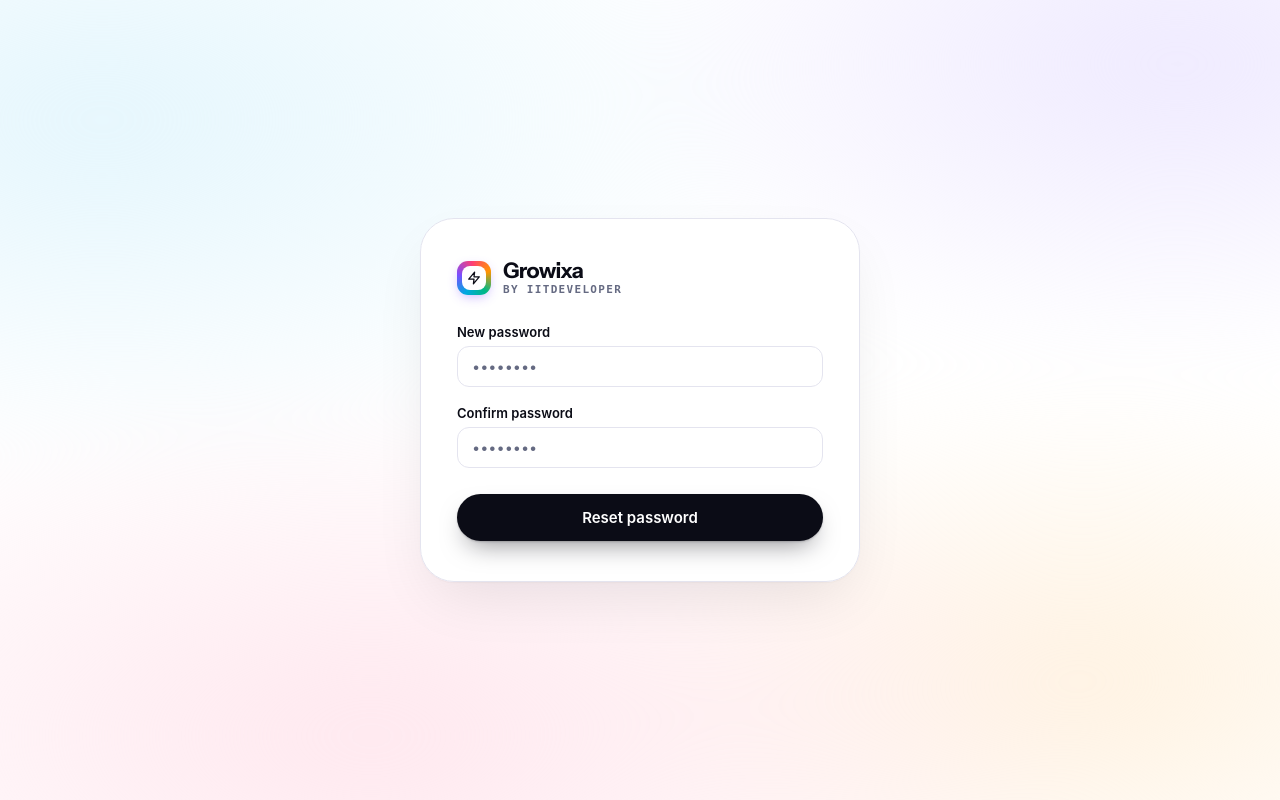
Test: ResetPasswordPage › shows link expired when the API rejects the token
Type "New-Password-456!" into the password field labelled "New password" at (640, 366), box [457,346,823,387]
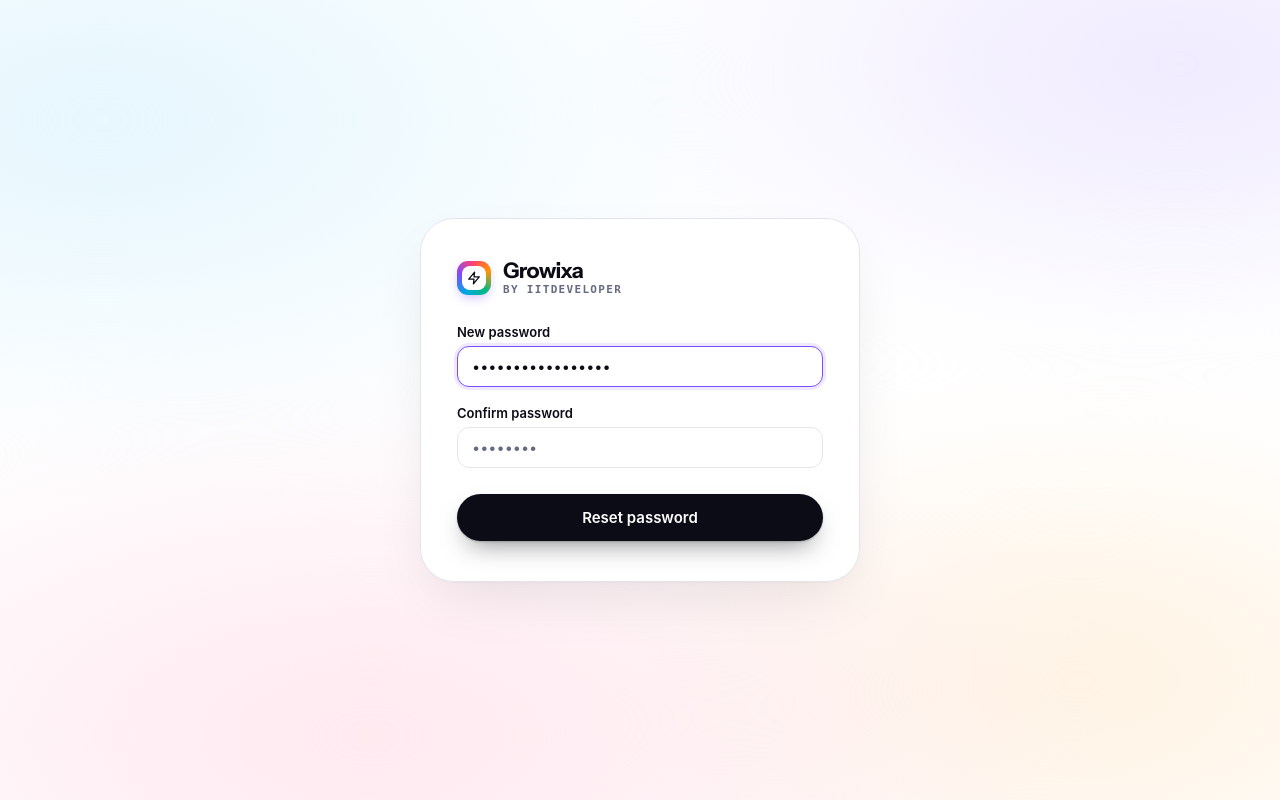
Type "New-Password-456!" into the password field labelled "Confirm password" at (640, 447), box [457,427,823,468]
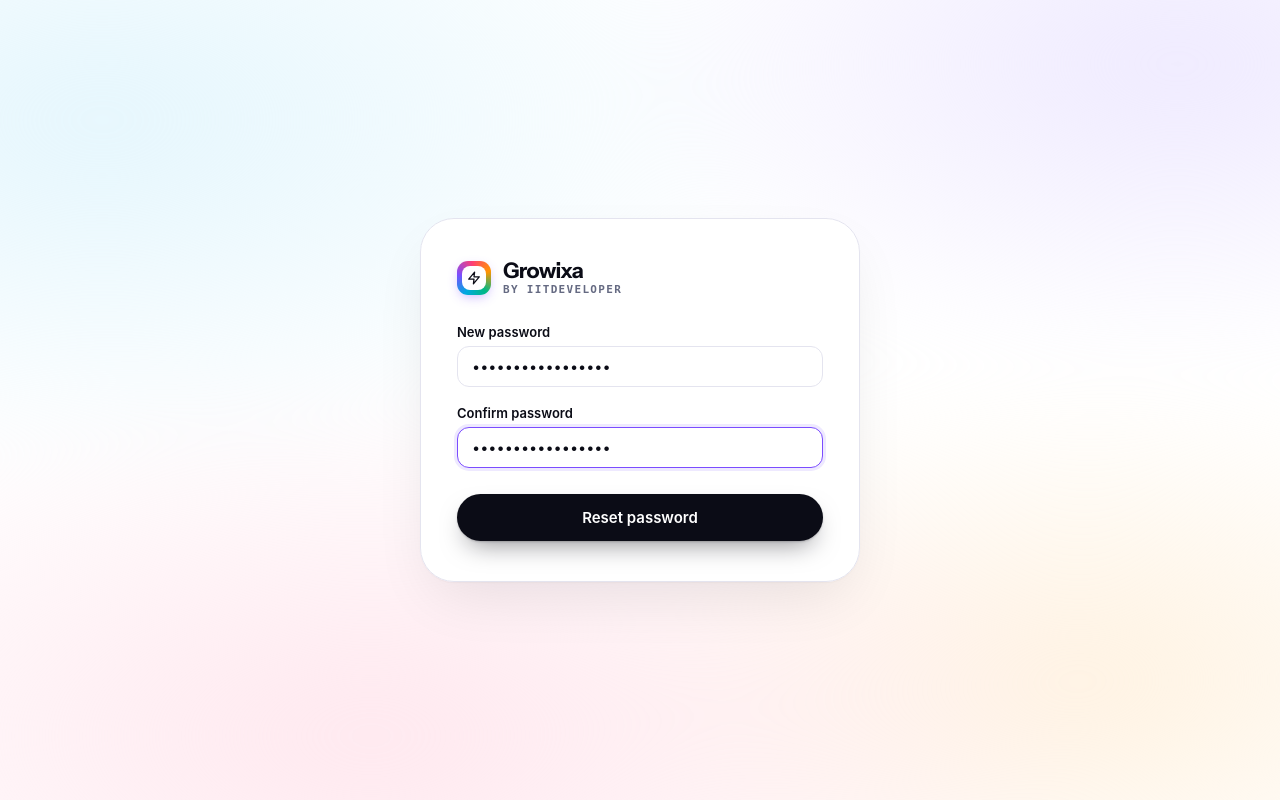
Click the button "Reset password" at (640, 517), box [457,494,823,541]
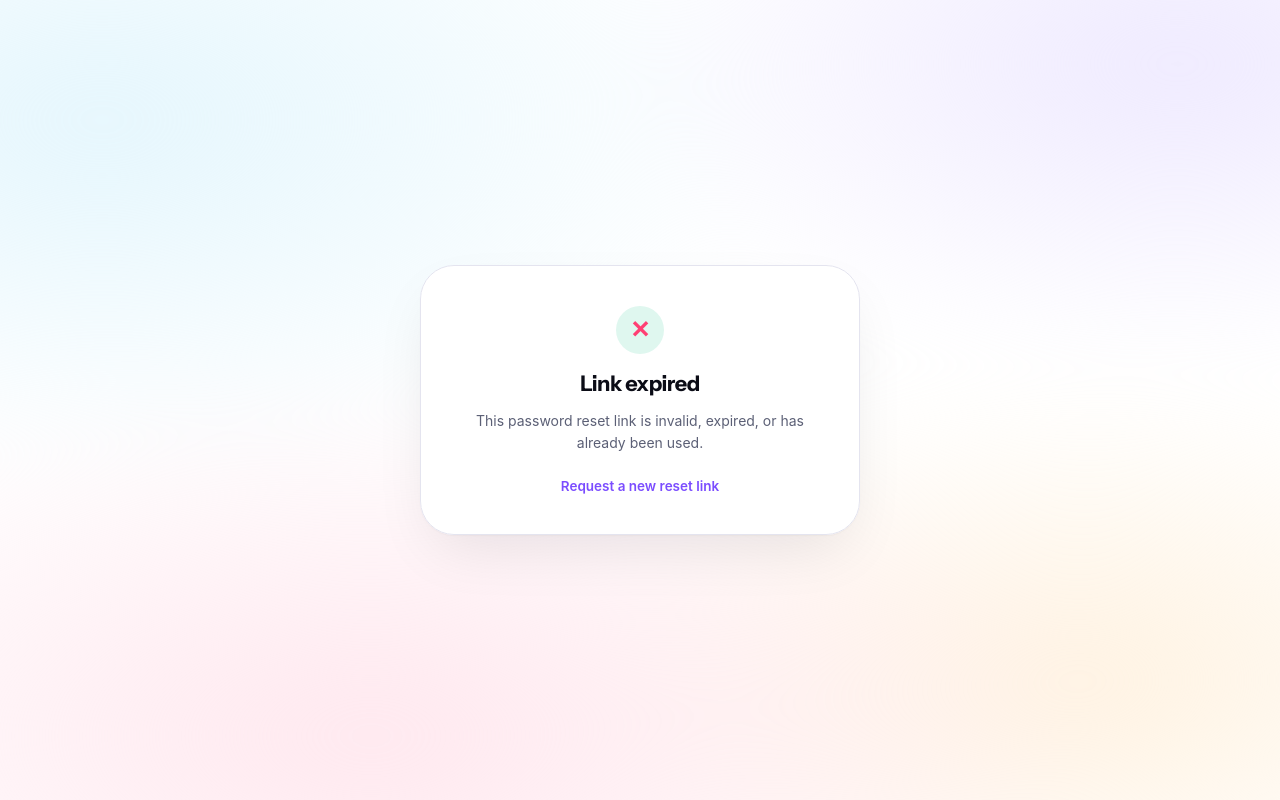
Expected: the heading "Link expired" is shown, [580,370,700,396]
